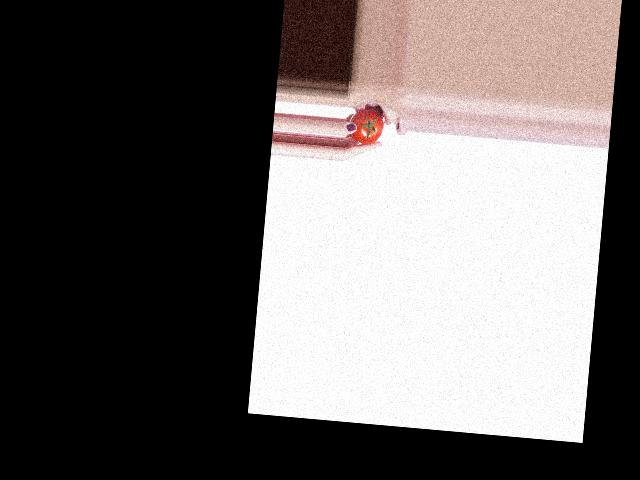tomato: (347, 108, 384, 146)
